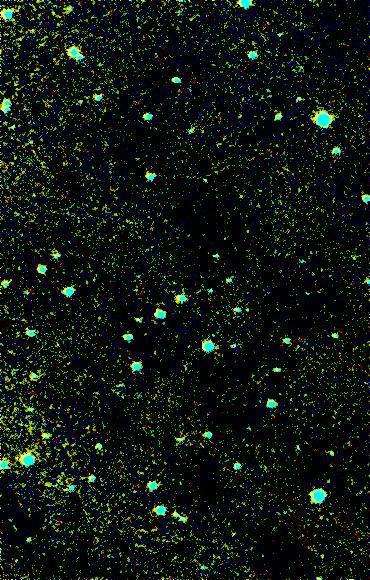star: (2, 546, 32, 576)
